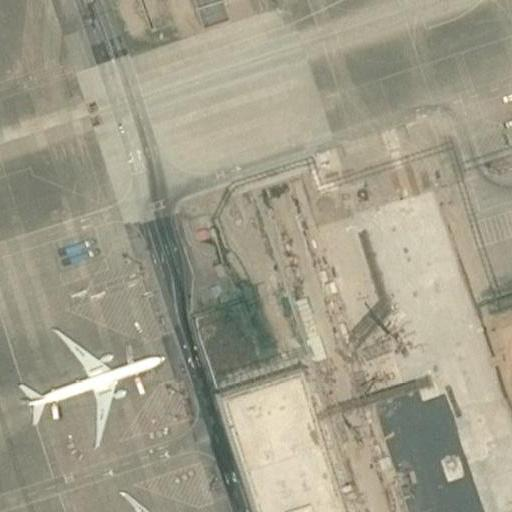Aircraft: (9, 325, 163, 454), (95, 488, 208, 512)
